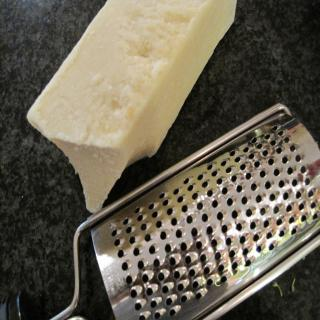Cheese: (26, 0, 238, 212)
